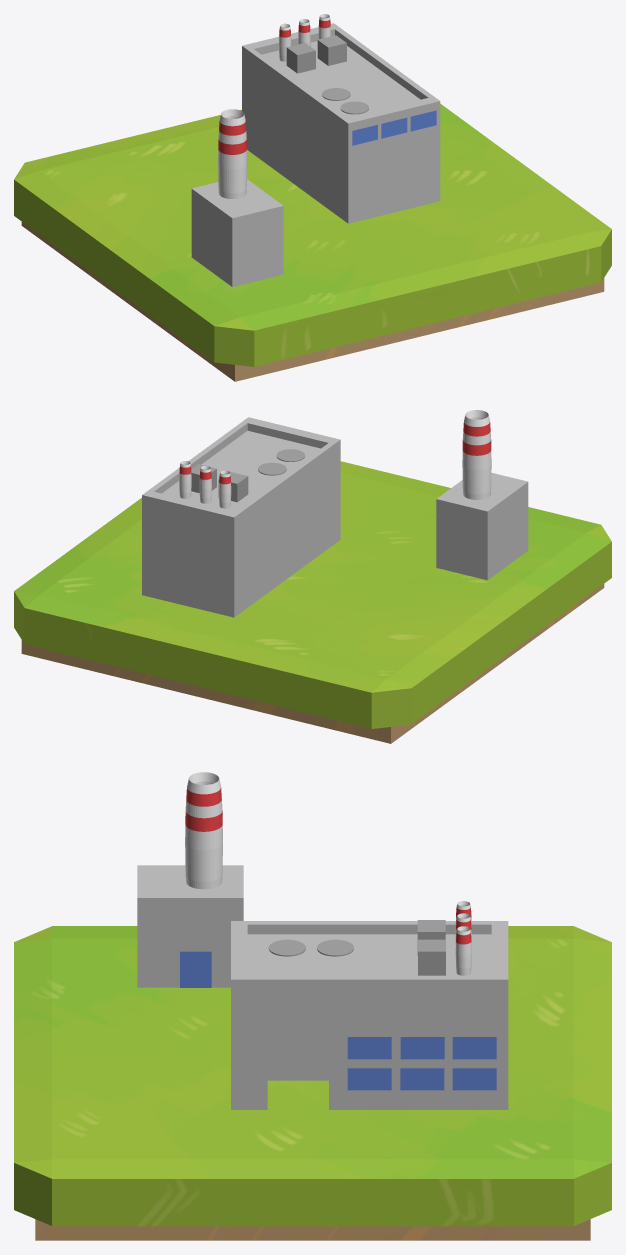
File: recycle_fabrik.fbx
3 views of the same model, one above another, from view 1: azimuth 30°, elevation 25°; view 2: azimuth 150°, elevation 25°; view 3: azimuth 270°, elevation 25° (orthographic). The views are drawn at different scales.
Parts seen in each view (by area): view 1: Cube.002, gebaeude, Cube.001, Torus, kleine graue cubes, fenster, graue kreise; view 2: Cube.002, gebaeude, Cube.001, Torus, kleine graue cubes, graue kreise, Torus.003, Torus.002, Torus.001; view 3: Cube.002, gebaeude, Cube.001, fenster, Torus, kleine graue cubes, graue kreise, Torus.003.
Part boxes in pixels (box(x1,y1,x2,y2)): Cube.002: box(14, 104, 611, 366); gebaeude: box(191, 23, 440, 286); Cube.001: box(21, 222, 604, 381); Torus: box(218, 109, 247, 198); kleine graue cubes: box(286, 35, 346, 73); fenster: box(352, 110, 436, 145); graue kreise: box(322, 88, 368, 114); Cube.002: box(14, 461, 611, 728); gebaeude: box(142, 417, 528, 617); Cube.001: box(21, 584, 604, 743); Torus: box(462, 410, 491, 499); kleine graue cubes: box(191, 464, 248, 502); graue kreise: box(258, 449, 304, 475); Torus.003: box(179, 461, 191, 498); Torus.002: box(199, 466, 211, 503); Torus.001: box(219, 470, 231, 508); Cube.002: box(14, 926, 611, 1226); gebaeude: box(137, 865, 508, 1109); Cube.001: box(35, 1219, 590, 1240); fenster: box(180, 951, 496, 1090); Torus: box(185, 772, 222, 889); kleine graue cubes: box(417, 920, 445, 975); graue kreise: box(268, 939, 353, 956); Torus.003: box(455, 926, 471, 975).
Size of the model in its own units: 108 by 53.09 by 108.
8 materials, 5 textured.
